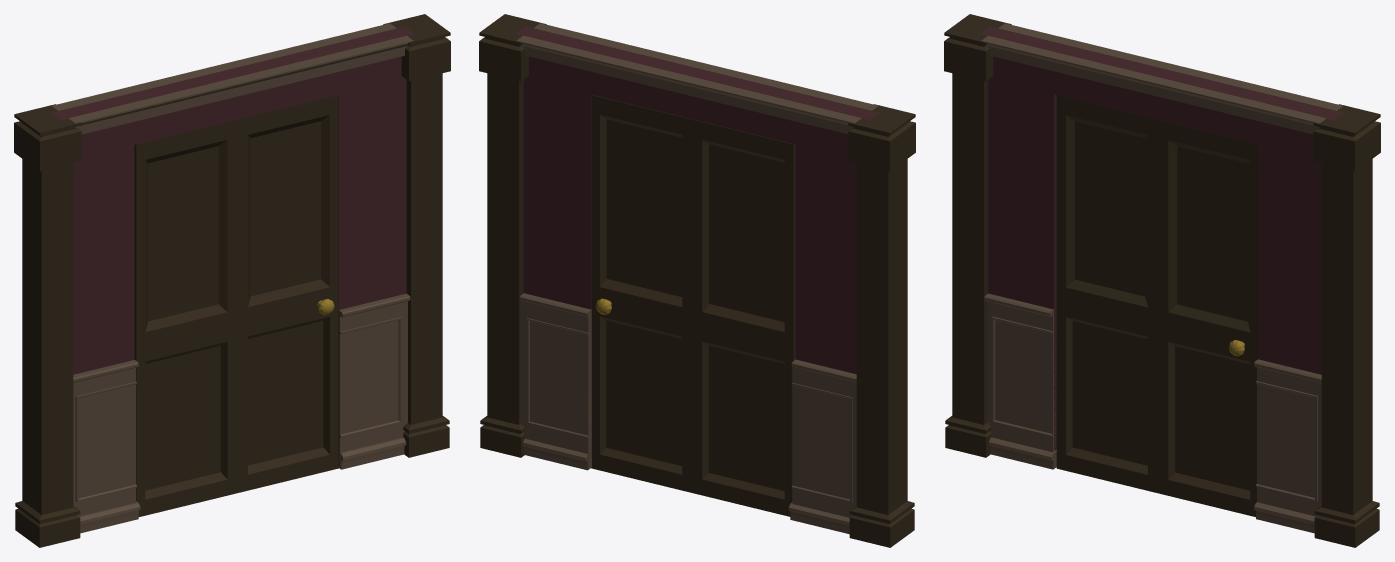
Rendered from MansionInnderDoor.fbx.
The picture shows the model from 3 angles, left to right: view 1: azimuth 30°, elevation 25°; view 2: azimuth 150°, elevation 25°; view 3: azimuth 330°, elevation 25°; orthographic projection.
Parts seen in each view (by area): view 1: Door, polySurface12, pCube13, polySurface14, pCube23, pCube8, pCube27, polySurface22, polySurface13, polySurface15, polySurface16; view 2: Door, polySurface12, pCube13, polySurface23, pCube23, pCube27, pCube8, polySurface21, polySurface17, polySurface19, polySurface18; view 3: Door, polySurface12, pCube23, polySurface14, pCube13, pCube8, pCube27, polySurface22, polySurface13, polySurface16, polySurface15.
Part boxes in pixels (left/top/right/bottom): Door: left=134, top=95, right=338, bottom=516; polySurface12: left=51, top=26, right=414, bottom=457; pCube13: left=14, top=104, right=81, bottom=547; polySurface14: left=73, top=301, right=407, bottom=516; pCube23: left=383, top=14, right=450, bottom=457; pCube8: left=68, top=35, right=413, bottom=134; pCube27: left=51, top=23, right=396, bottom=110; polySurface22: left=79, top=437, right=406, bottom=533; polySurface13: left=73, top=293, right=410, bottom=382; polySurface15: left=340, top=317, right=402, bottom=437; polySurface16: left=75, top=381, right=136, bottom=501; Door: left=591, top=95, right=795, bottom=516; polySurface12: left=516, top=26, right=879, bottom=457; pCube13: left=848, top=104, right=915, bottom=547; polySurface23: left=520, top=300, right=856, bottom=517; pCube23: left=479, top=14, right=546, bottom=457; pCube27: left=516, top=35, right=861, bottom=133; pCube8: left=533, top=23, right=878, bottom=110; polySurface21: left=523, top=438, right=849, bottom=534; polySurface17: left=520, top=293, right=856, bottom=382; polySurface19: left=526, top=318, right=588, bottom=438; polySurface18: left=791, top=382, right=852, bottom=502; Door: left=1056, top=95, right=1257, bottom=516; polySurface12: left=980, top=27, right=1344, bottom=451; pCube23: left=1313, top=104, right=1380, bottom=547; polySurface14: left=987, top=301, right=1321, bottom=516; pCube13: left=944, top=14, right=1011, bottom=457; pCube8: left=981, top=35, right=1326, bottom=134; pCube27: left=998, top=23, right=1343, bottom=111; polySurface22: left=988, top=437, right=1315, bottom=533; polySurface13: left=984, top=293, right=1321, bottom=382; polySurface16: left=991, top=316, right=1052, bottom=436; polySurface15: left=1255, top=381, right=1317, bottom=501.
Bounding box in the file's own units: 60.92 × 58.99 × 6.61.
